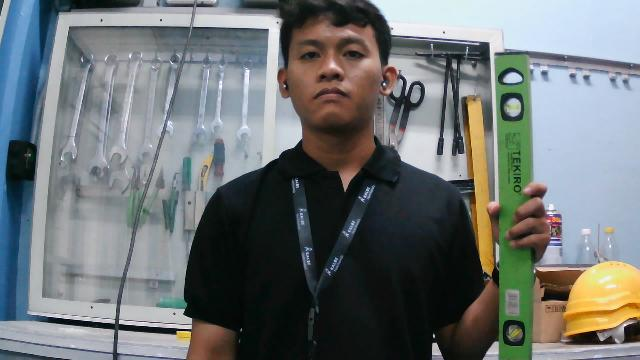water_pass: (480, 49, 543, 359)
